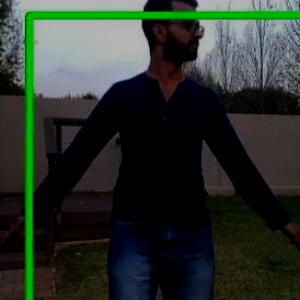land: (5, 0, 300, 299)
